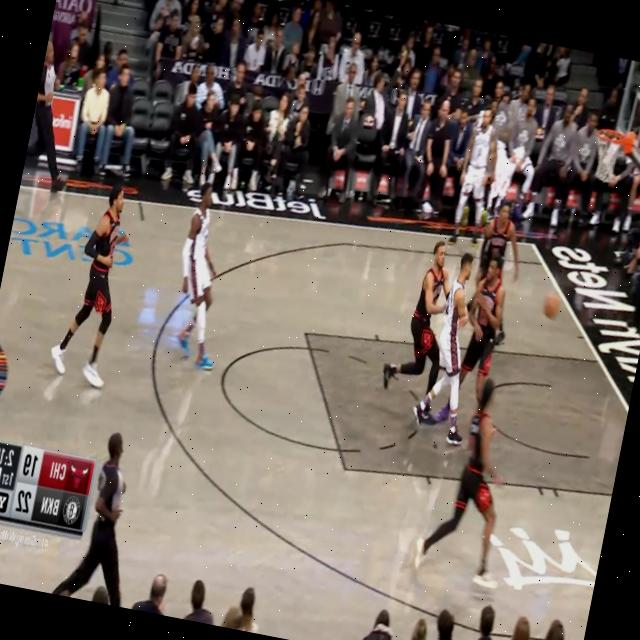foul: (359, 229, 552, 462)
no foul: (28, 144, 263, 432)
